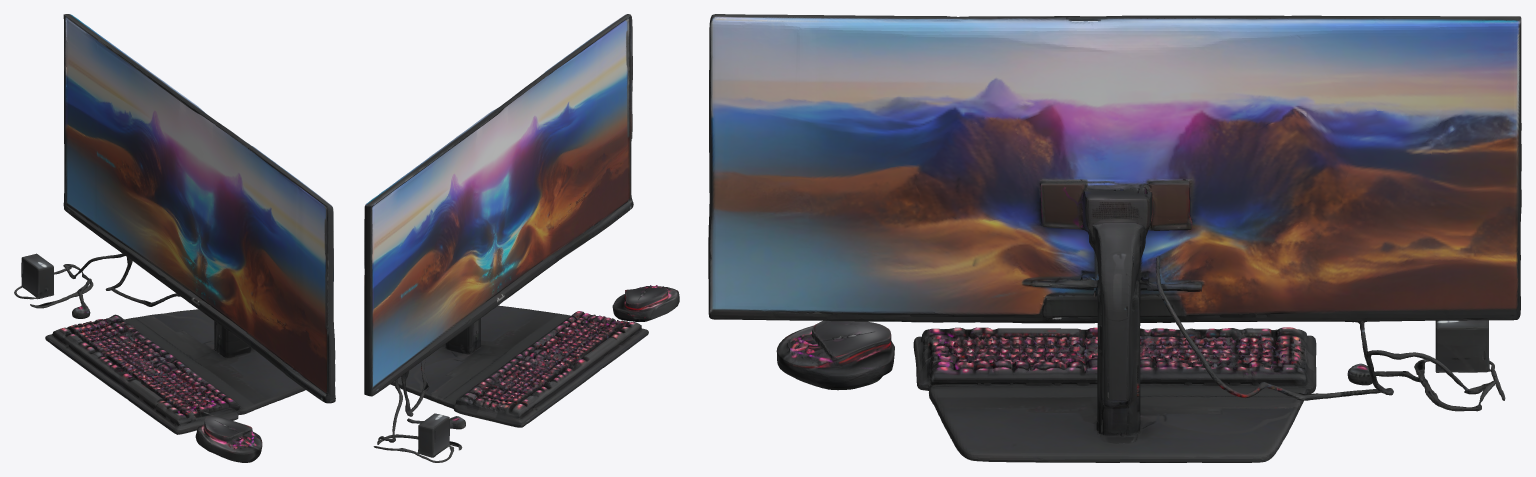
The model's file is Computer.fbx.
The picture shows the model from 3 angles, left to right: view 1: azimuth 30°, elevation 25°; view 2: azimuth 150°, elevation 25°; view 3: azimuth 270°, elevation 25°; orthographic projection. The views are drawn at different scales.
Parts seen in each view (by area): view 1: temp; view 2: temp; view 3: temp.
Boxes of the visible parts, bbox=[...] form: temp: bbox=[14, 14, 335, 462]; temp: bbox=[364, 14, 679, 462]; temp: bbox=[708, 14, 1521, 462].
Bounding box in the file's own units: 70.98 × 109 × 200.
Materials: 1 (1 with a texture image).
